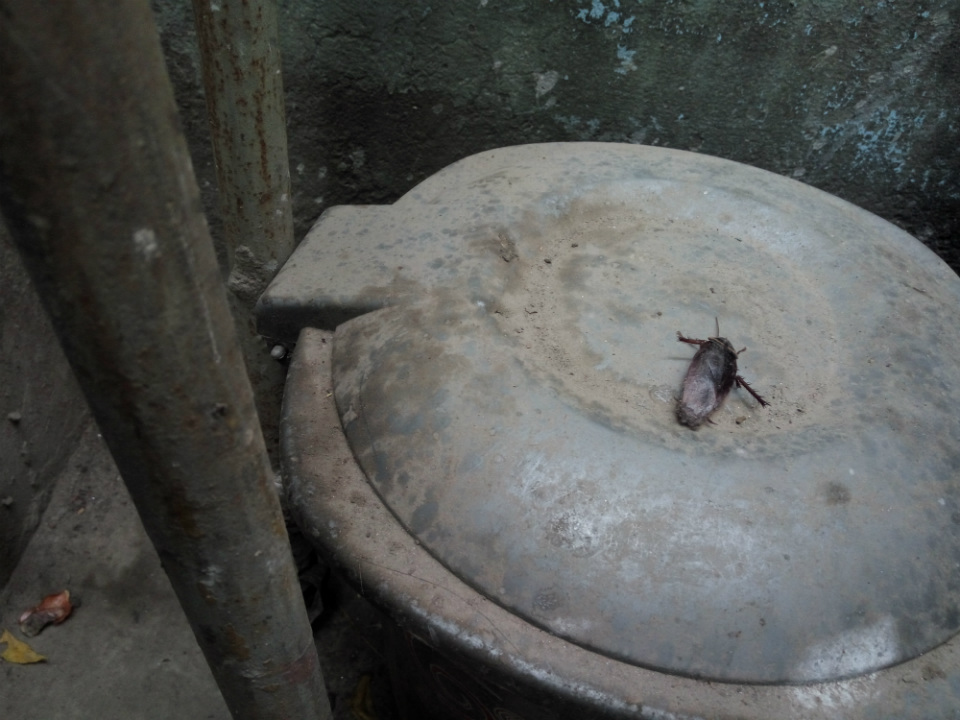cockroach: (624, 288, 811, 457)
